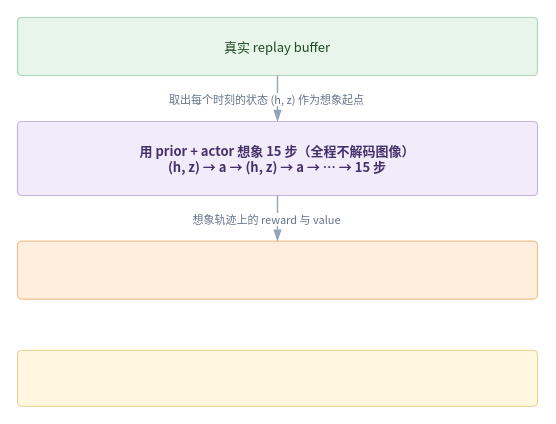
Some shapes in this 556 by 424 pixel diagram are drawn without their labels. The box of each missing label's shape, as (x1, y1, x2, y2) in pixels:
actor 最大化 λ-return ｜ critic 回归 λ-return: (16, 240, 538, 299)
起点取自真实数据 + horizon 只有 15 步 = 不让策略在模型里跑太远（防 model exploitation）: (16, 349, 538, 406)
